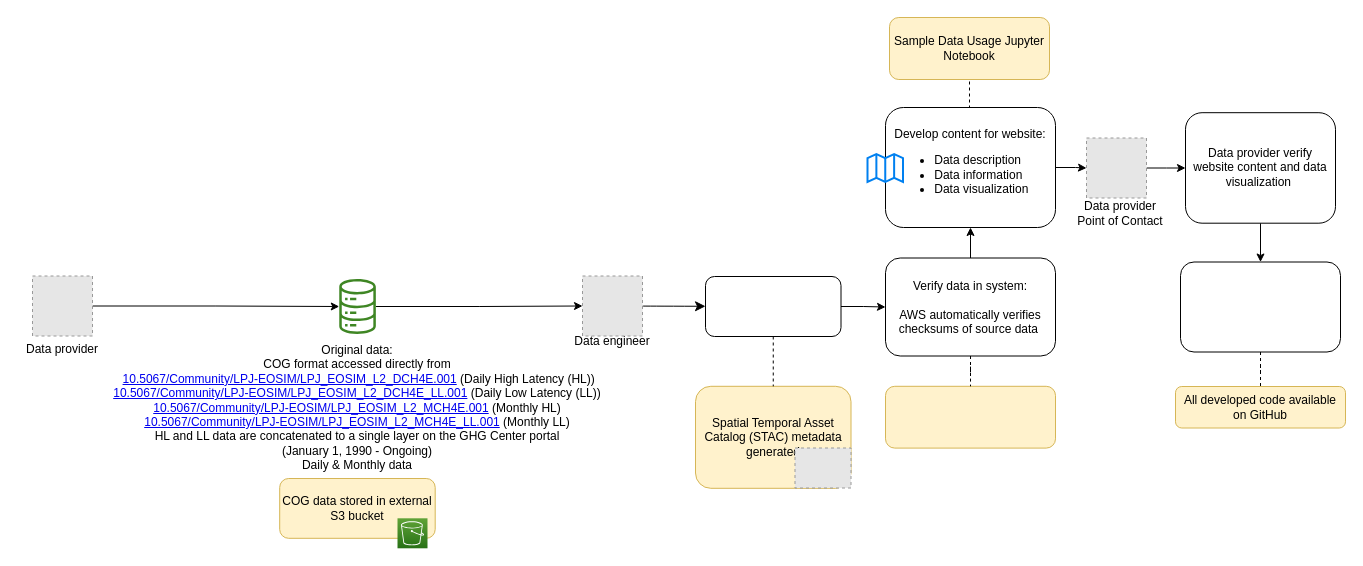
The diagram is 1363 pixels wide and 566 high, and some of its shapes have lost their labels. Grey dashed boxes stand in for pictures. The centre of each missing label's shape, as x and y in pixels:
Data Intake Processing and Verification Report: the point at 970,416
Ingest data to GHG Center system: the point at 772,306
With data provider approval, release data publicly on GHG Center website: the point at 1260,306
